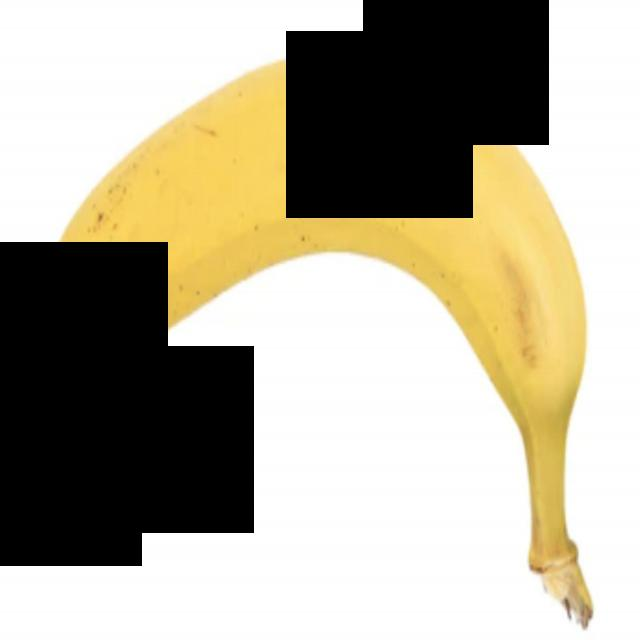banana: (3, 31, 638, 603)
